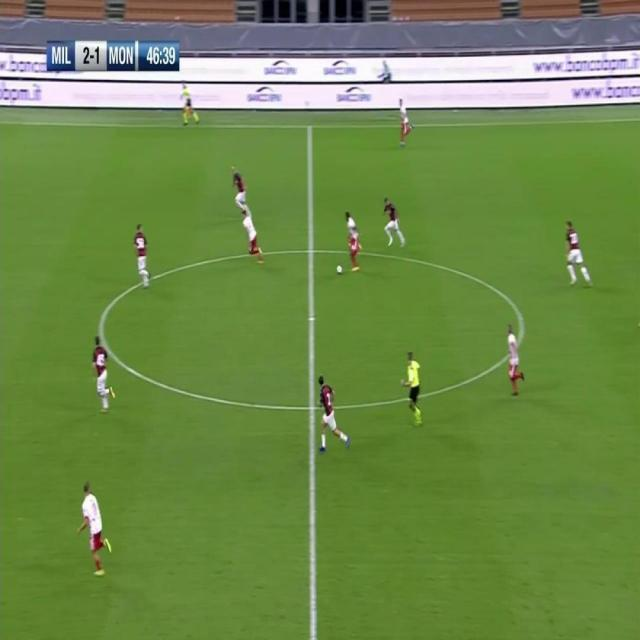ball: (336, 263, 343, 275)
player: (76, 479, 113, 577), (316, 374, 353, 454), (563, 221, 593, 287), (92, 336, 116, 416), (505, 323, 525, 398), (240, 208, 265, 266), (133, 222, 153, 290), (383, 195, 407, 249), (230, 163, 252, 217), (346, 212, 363, 274), (180, 80, 199, 126), (399, 96, 414, 145)
referee: (401, 349, 426, 426)
